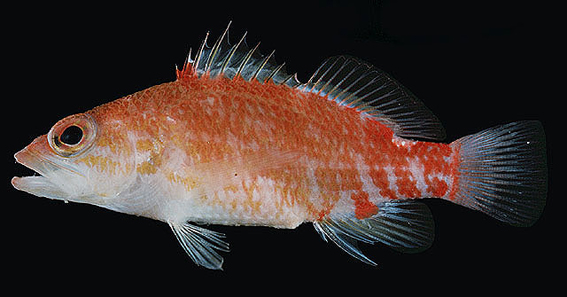fish: (10, 20, 542, 271)
